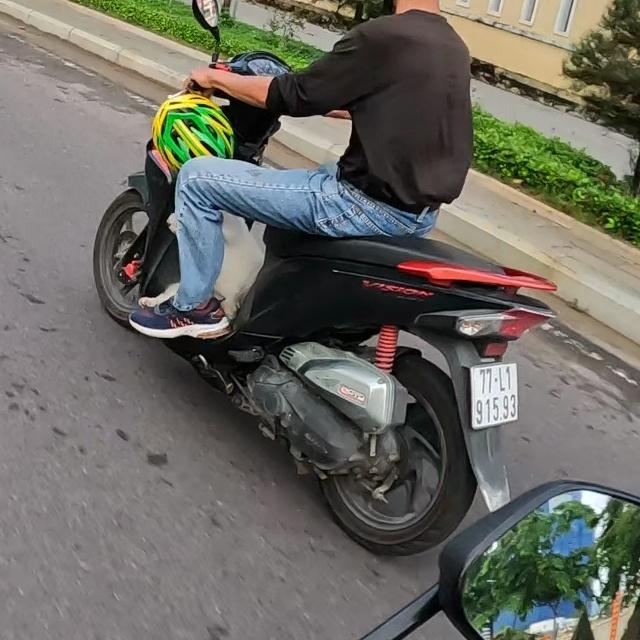license-plate: (469, 362, 519, 432)
